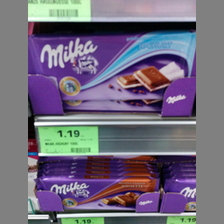chocolate: (28, 34, 197, 102), (34, 175, 158, 209)
